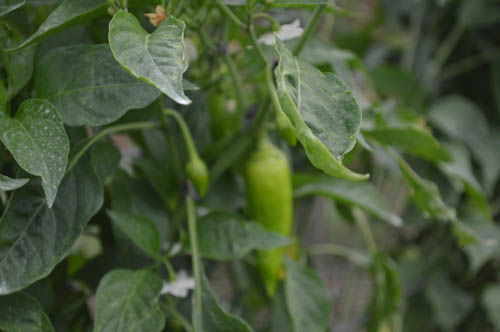ChiliPepper: (247, 151, 292, 293)
